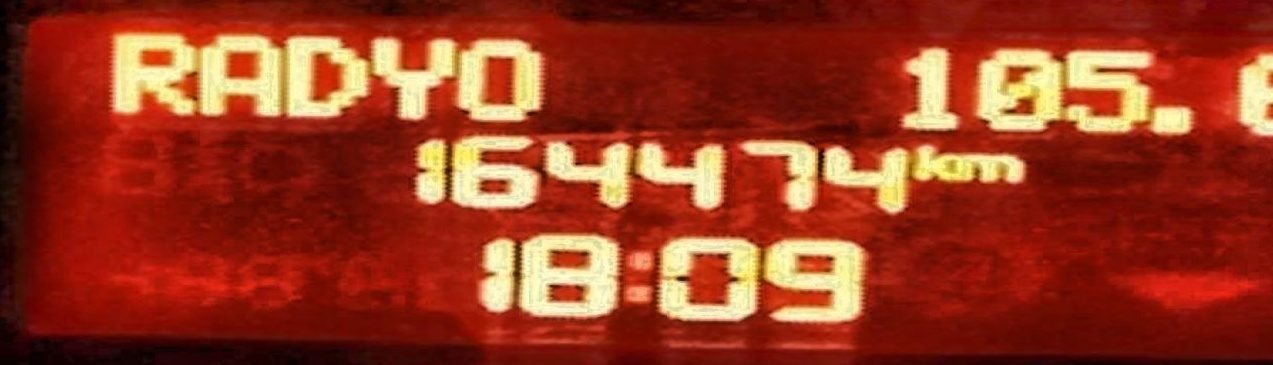-: (1152, 100, 1205, 141)
0: (658, 233, 759, 327), (974, 44, 1062, 136)
1: (891, 38, 960, 130), (472, 229, 517, 318), (404, 135, 446, 210)
4: (634, 133, 721, 210), (820, 138, 909, 213), (545, 132, 631, 209)
5: (1067, 41, 1149, 139)
6: (447, 129, 543, 212)
7: (742, 133, 820, 215)
8: (518, 229, 614, 321)
9: (762, 237, 871, 329)
X: (107, 24, 194, 120), (460, 34, 554, 122), (370, 27, 453, 123), (285, 29, 370, 121), (197, 30, 279, 122), (954, 149, 1034, 184), (619, 241, 651, 315), (915, 140, 952, 187)
